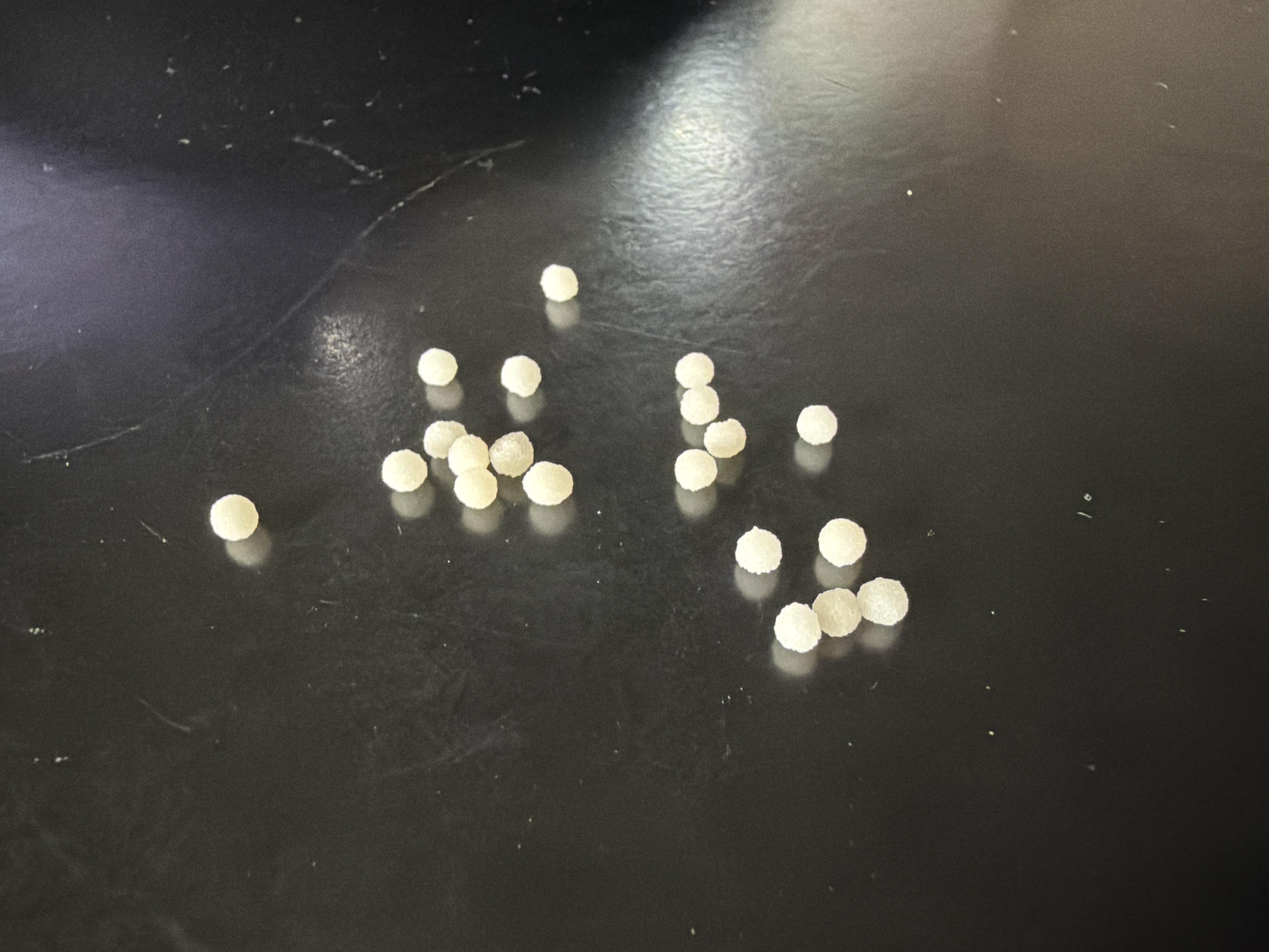pill: (857, 578, 909, 625), (812, 588, 861, 637), (818, 518, 866, 567), (774, 603, 821, 653), (210, 494, 259, 541), (735, 527, 782, 574), (523, 462, 573, 506), (488, 432, 533, 477), (381, 449, 428, 492), (675, 449, 717, 491), (454, 468, 497, 509), (500, 355, 541, 398), (448, 434, 490, 475), (797, 405, 838, 445), (704, 419, 746, 458), (423, 420, 466, 458), (417, 348, 458, 386), (680, 386, 719, 425), (540, 264, 578, 302), (675, 352, 714, 388)
